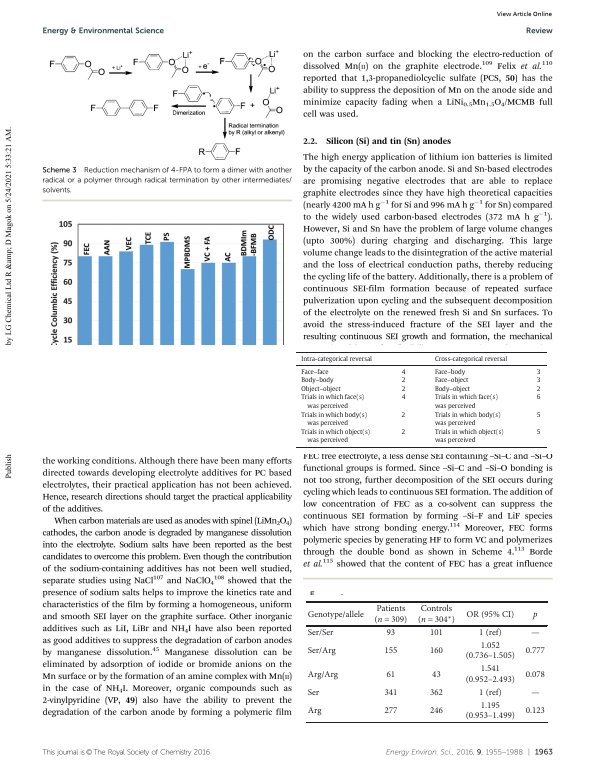borderless: (306, 600, 548, 723), (295, 350, 547, 447)
cell: (300, 428, 371, 445), (434, 428, 505, 445), (300, 410, 368, 427), (434, 410, 502, 427), (300, 393, 365, 410), (434, 393, 499, 410), (464, 641, 515, 662), (464, 664, 515, 685), (464, 701, 515, 722), (417, 604, 456, 625), (373, 604, 408, 625), (306, 609, 364, 620), (434, 355, 508, 363), (300, 355, 373, 363), (465, 609, 515, 620), (306, 669, 339, 680), (300, 385, 342, 393), (300, 376, 335, 385), (434, 376, 469, 385), (306, 646, 336, 656), (434, 385, 471, 393), (306, 628, 334, 638), (434, 368, 466, 376), (478, 628, 502, 638), (478, 688, 502, 698), (300, 368, 330, 376), (524, 669, 545, 680), (524, 706, 545, 717), (524, 646, 545, 656), (306, 706, 322, 717), (383, 706, 398, 717), (429, 706, 444, 717), (429, 628, 444, 638), (383, 646, 398, 656), (429, 646, 444, 656), (383, 688, 398, 698), (429, 688, 444, 698), (306, 688, 320, 698), (385, 669, 396, 680), (385, 628, 396, 638), (431, 669, 441, 680), (532, 611, 538, 620), (536, 376, 542, 385), (536, 393, 542, 402), (536, 410, 542, 419), (536, 368, 542, 376), (536, 385, 542, 393), (536, 428, 542, 436), (401, 376, 406, 385), (401, 393, 406, 402), (401, 410, 406, 419), (530, 632, 540, 636), (530, 692, 540, 696), (401, 368, 406, 376), (401, 385, 406, 393), (401, 428, 406, 436)
